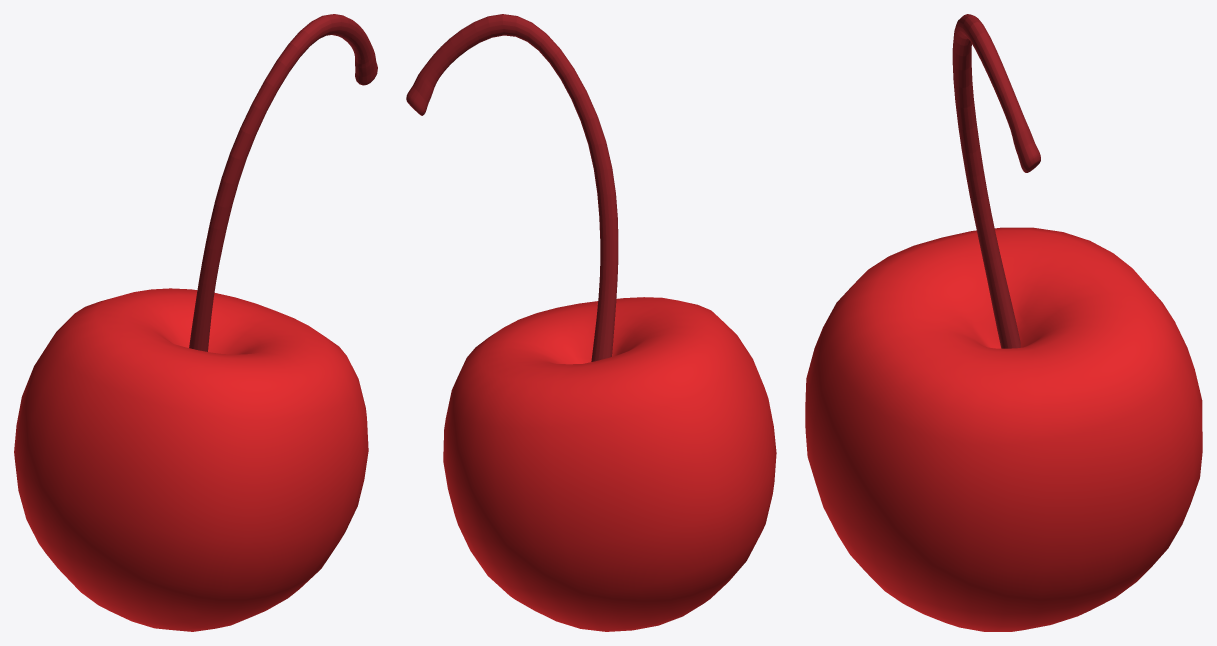
Rendered from cherry.fbx.
3 renders of one model, left to right at view 1: azimuth 30°, elevation 25°; view 2: azimuth 150°, elevation 25°; view 3: azimuth 270°, elevation 25°, orthographic. The views are drawn at different scales.
Parts seen in each view (by area): view 1: Cube.025; view 2: Cube.025; view 3: Cube.025.
Part boxes in pixels (x1=…): Cube.025: x1=14, y1=14, x2=377, y2=631; Cube.025: x1=406, y1=14, x2=776, y2=631; Cube.025: x1=805, y1=14, x2=1202, y2=631.
Bounding box in the file's own units: 3.34 × 5.3 × 2.88.
